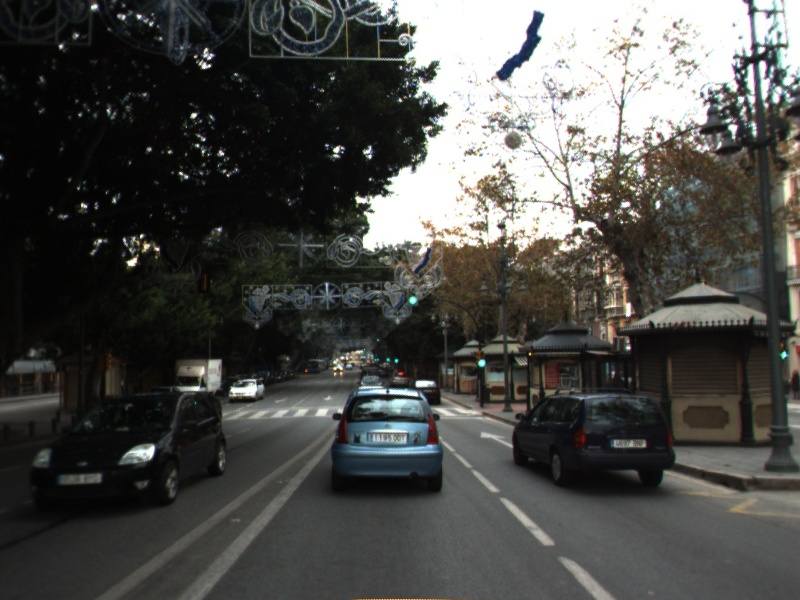STRAIGHT: (478, 429, 514, 449)
